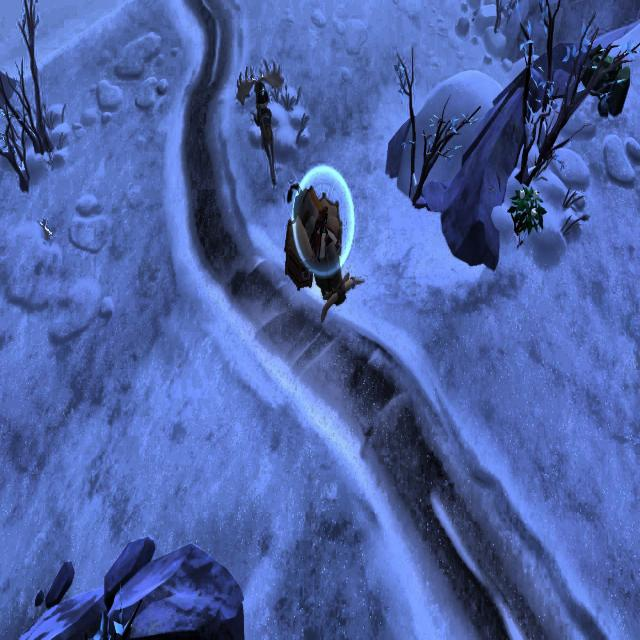fiber_t3: (510, 189, 544, 239)
rock_t3: (583, 40, 629, 116)
